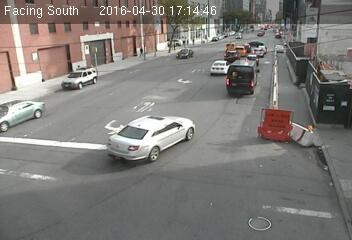neg: (114, 139, 131, 161), (299, 122, 315, 143)
pos: (138, 46, 147, 58)
